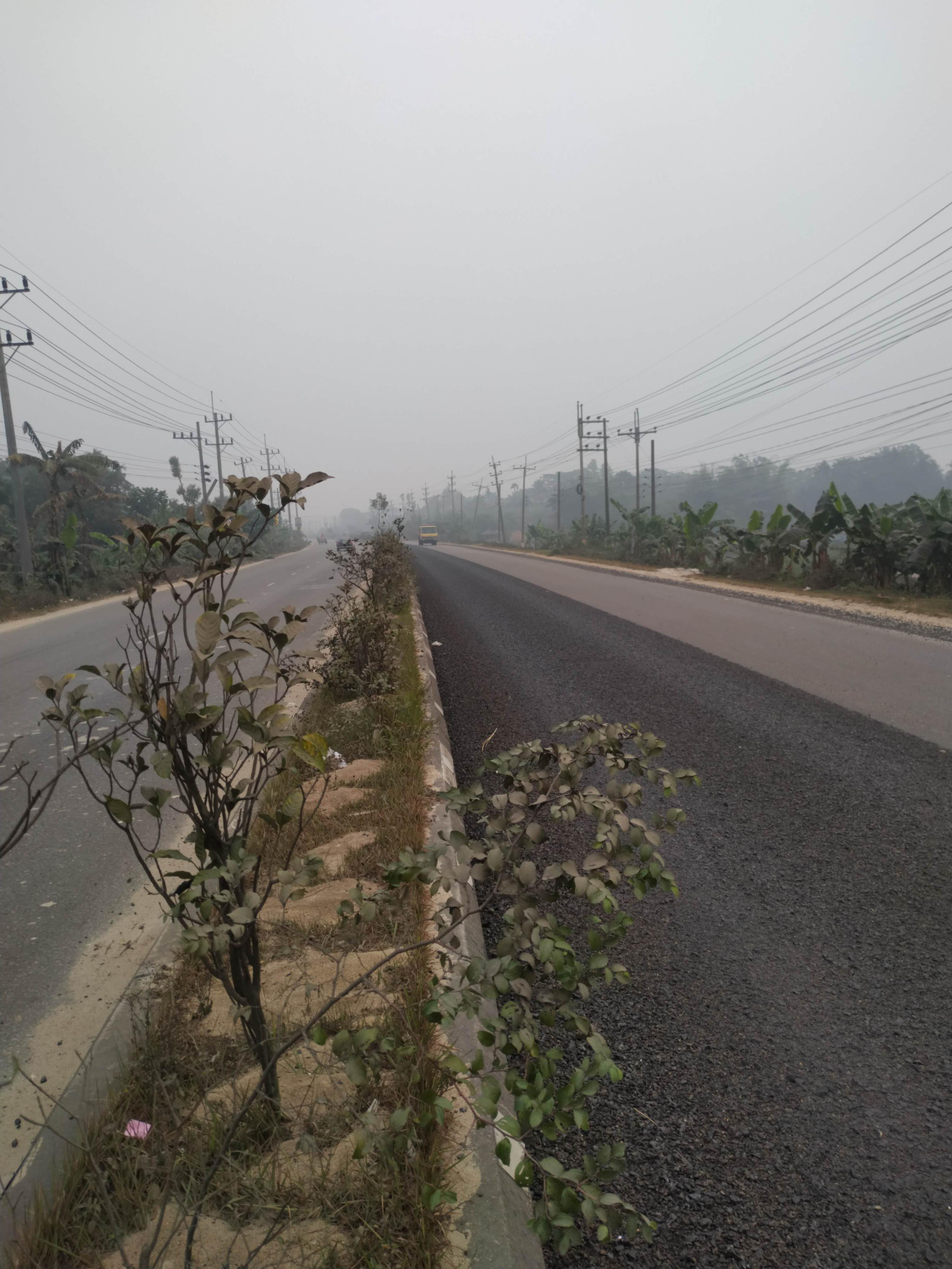Truck: (403, 510, 468, 563)
